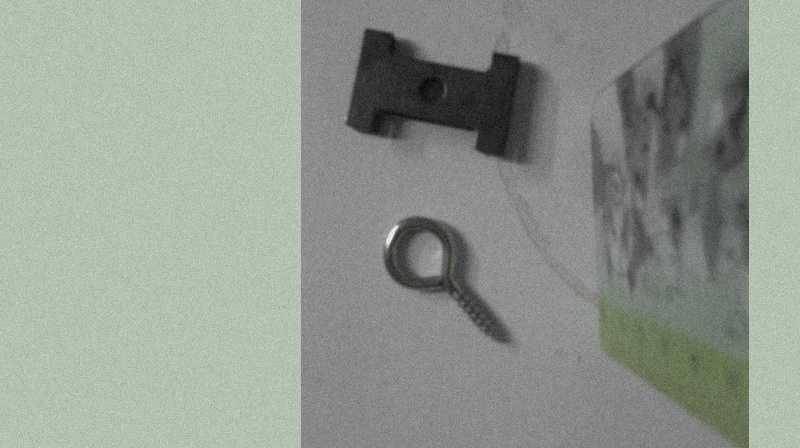O001: (379, 213, 516, 352)
O002: (344, 26, 520, 165)
